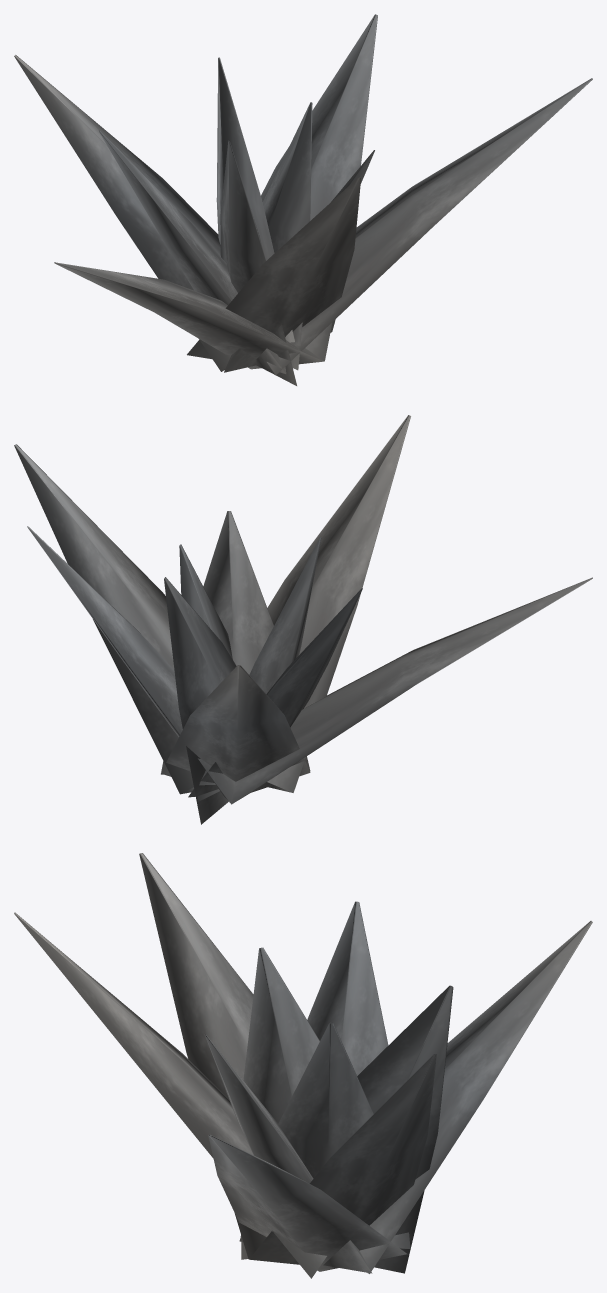
Rendered from rosette_l1.gltf.
3 renders of one model, top to bottom at view 1: azimuth 30°, elevation 25°; view 2: azimuth 150°, elevation 25°; view 3: azimuth 270°, elevation 25°, orthographic. The views are drawn at different scales.
Visible parts, largest first — view 1: rosette_l1; view 2: rosette_l1; view 3: rosette_l1.
Part boxes in pixels (left/top/right/bottom): rosette_l1: left=14, top=14, right=592, bottom=385; rosette_l1: left=14, top=415, right=592, bottom=824; rosette_l1: left=14, top=853, right=592, bottom=1278.
Bounding box in the file's own units: 1.39 × 0.712 × 1.1.
1 material, 1 textured.
